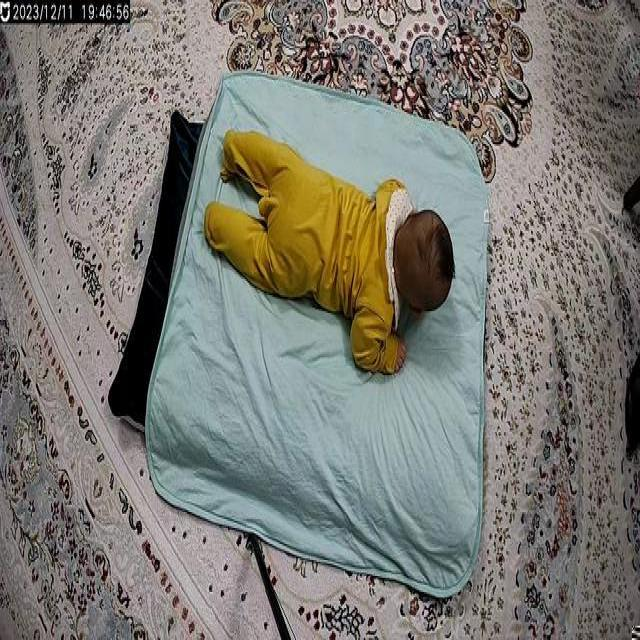baby: (204, 116, 456, 384)
